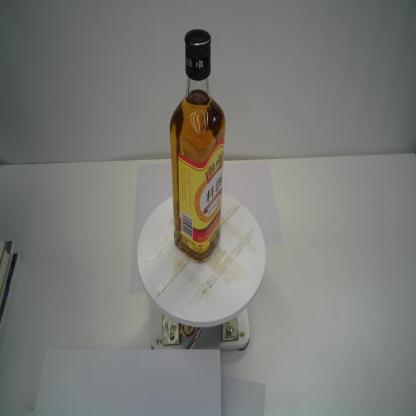Seasoner: (169, 24, 227, 268)
